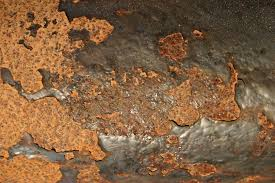rust: (2, 55, 245, 126), (52, 2, 274, 72), (85, 121, 272, 182), (11, 130, 91, 172)
